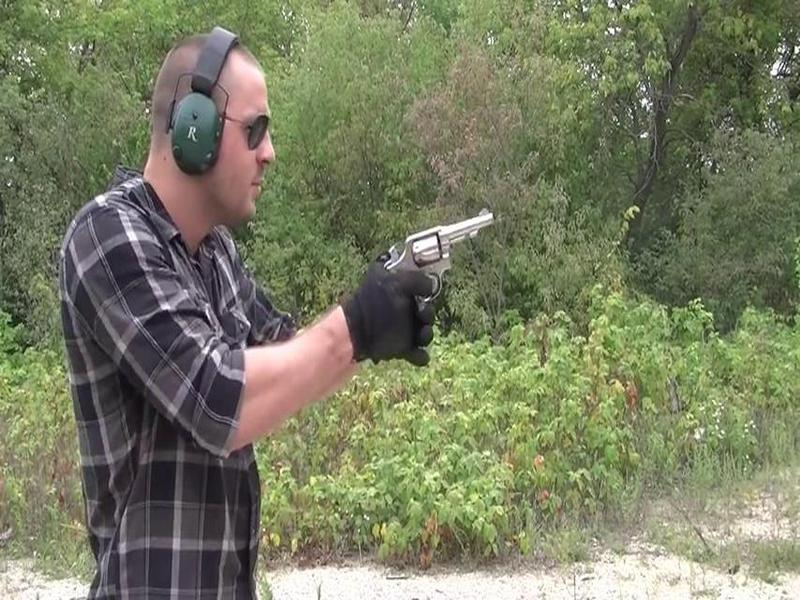Revolver: (378, 212, 514, 300)
